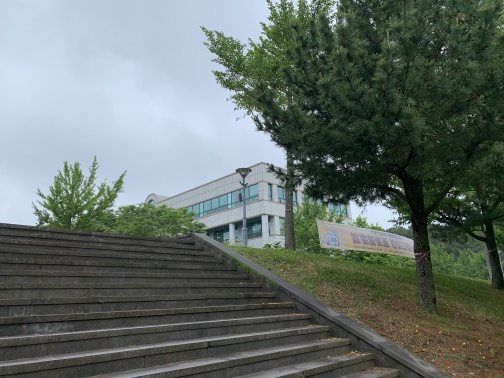Second Library: (141, 166, 356, 249)
